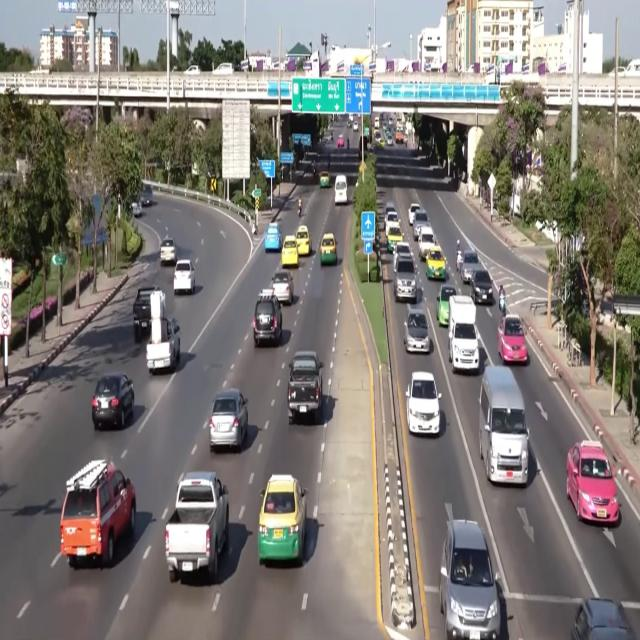car: (60, 460, 136, 568), (439, 520, 501, 639), (258, 475, 307, 565), (567, 440, 619, 524), (571, 598, 636, 639), (92, 373, 134, 431), (209, 389, 247, 451), (406, 372, 441, 435), (253, 288, 282, 346), (498, 314, 528, 364), (404, 306, 430, 353), (394, 257, 417, 303), (436, 285, 456, 326), (470, 269, 493, 304), (174, 260, 195, 295), (460, 250, 482, 283), (272, 271, 293, 305), (426, 246, 445, 279), (418, 226, 436, 260), (281, 235, 299, 268), (320, 233, 337, 265), (394, 241, 412, 271), (413, 209, 430, 240), (386, 224, 403, 253), (265, 223, 282, 251), (296, 225, 311, 255), (160, 238, 176, 265), (335, 176, 348, 205), (385, 210, 398, 234), (408, 203, 421, 225), (140, 184, 152, 207), (213, 63, 234, 75), (385, 201, 396, 216), (184, 65, 200, 75), (131, 201, 141, 217), (320, 172, 330, 188), (374, 131, 383, 145), (376, 138, 385, 148), (337, 136, 344, 147), (386, 136, 393, 146), (353, 120, 358, 131)
scooty: (499, 294, 506, 316), (499, 295, 506, 316), (456, 250, 462, 271)
truck: (165, 472, 228, 583), (146, 290, 180, 373), (287, 352, 323, 423), (448, 296, 479, 372), (146, 319, 180, 373), (133, 287, 158, 343)
